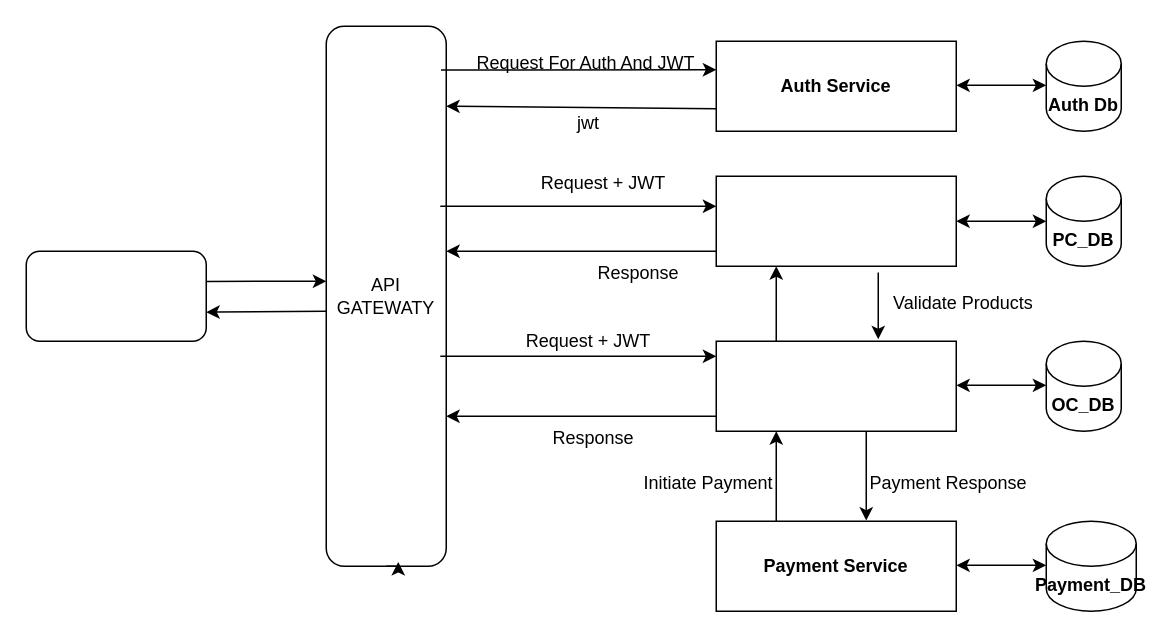
The diagram is 1173 pixels wide and 638 high, and some of its shapes have lost their labels. Each missing label, with the centre of its shape:
Catalog Service: the point at 835,220
Order Service: the point at 835,385
React /Postmen: the point at 115,295
